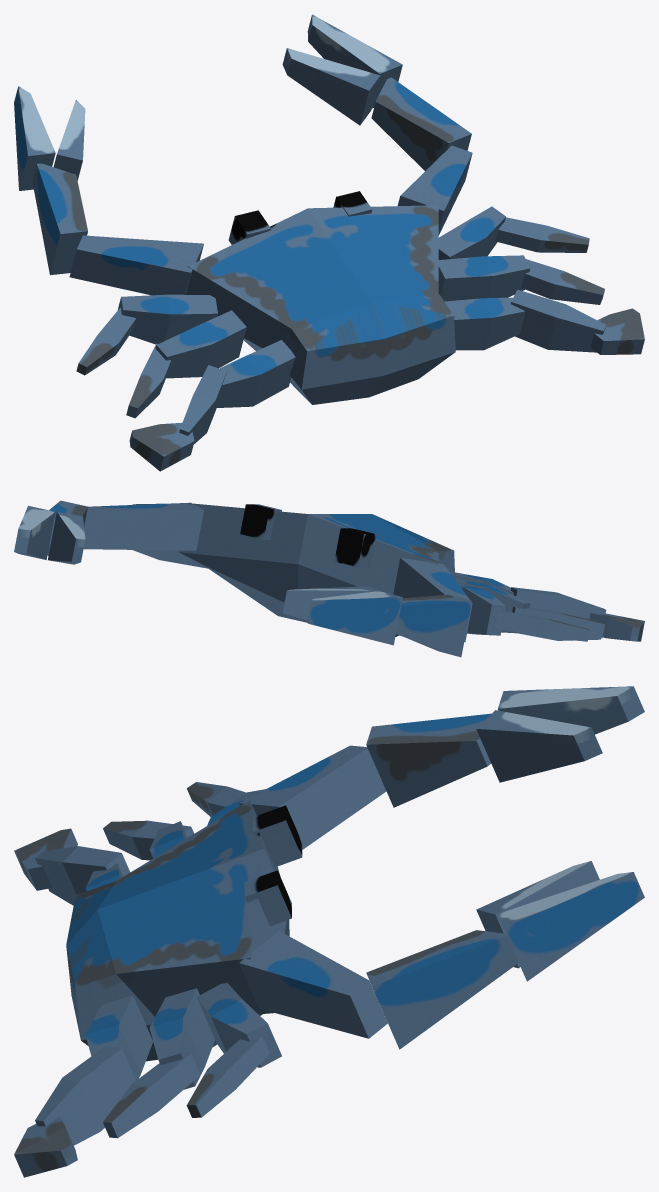
Rendered from Crab.glb.
3 renders of one model, top to bottom at view 1: azimuth 30°, elevation 25°; view 2: azimuth 150°, elevation 25°; view 3: azimuth 270°, elevation 25°, orthographic. The views are drawn at different scales.
Parts seen in each view (by area): view 1: Crab_01; view 2: Crab_01; view 3: Crab_01.
Part boxes in pixels (x1,y1,x2,y2): Crab_01: (14,14,644,471); Crab_01: (14,500,644,657); Crab_01: (14,686,644,1177).
Bounding box in the file's own units: 39.35 × 14.56 × 32.48.
1 material, 1 textured.
